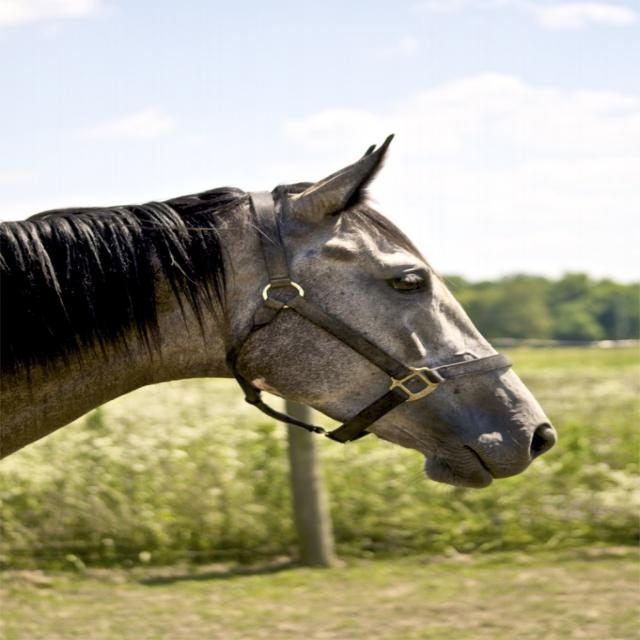Horse: (0, 130, 559, 489)
